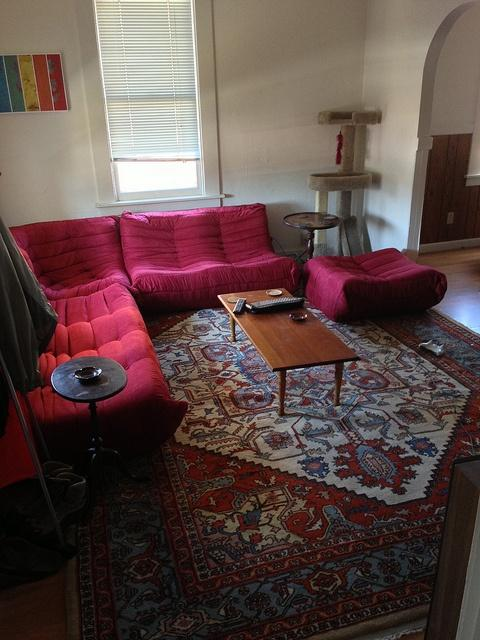Meja: (216, 286, 359, 416)
